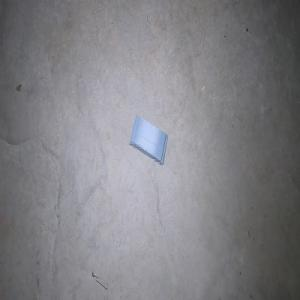PlasticPart: (128, 114, 168, 166)
